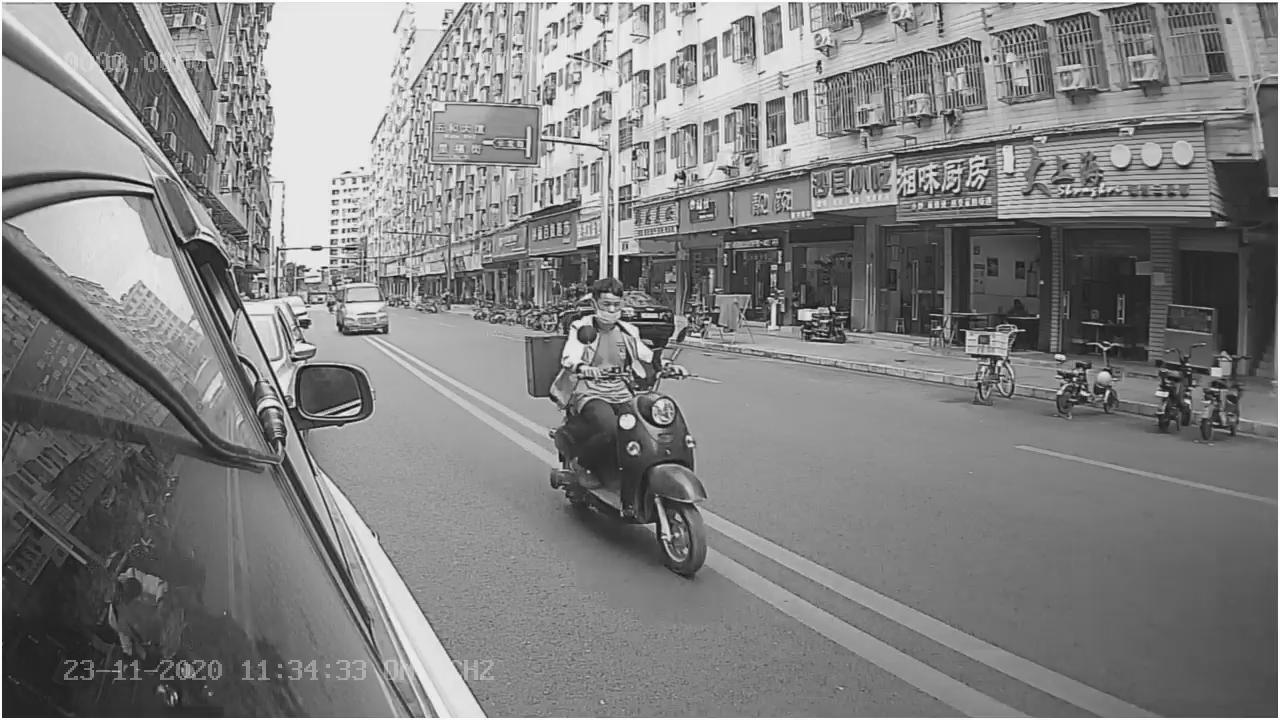person: (563, 275, 649, 380)
